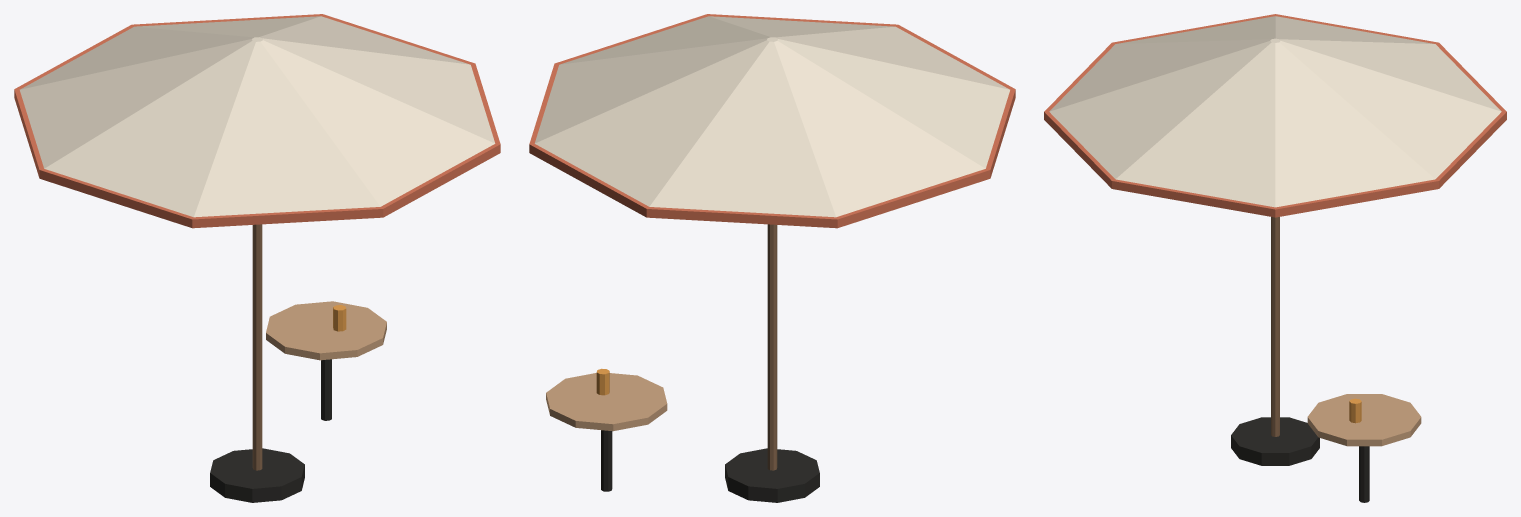
Rendered from parasol.glb.
3 views of the same model, side by side, from view 1: azimuth 30°, elevation 25°; view 2: azimuth 150°, elevation 25°; view 3: azimuth 270°, elevation 25° (orthographic). The views are drawn at different scales.
Parts seen in each view (by area): view 1: Canopy, CanopyTrim, SideTop, Base, Pole, SideLeg; view 2: Canopy, CanopyTrim, SideTop, Base, Pole, SideLeg; view 3: Canopy, CanopyTrim, SideTop, Base, Pole, SideLeg.
Part boxes in pixels (x1,y1,x2,y2): Canopy: (20, 16, 495, 217); CanopyTrim: (14, 14, 500, 228); SideTop: (266, 301, 386, 360); Base: (210, 448, 304, 502); Pole: (252, 224, 262, 470); SideLeg: (321, 359, 331, 420); Canopy: (534, 16, 1009, 217); CanopyTrim: (529, 14, 1015, 228); SideTop: (546, 373, 667, 431); Base: (725, 448, 819, 502); Pole: (767, 224, 777, 470); SideLeg: (601, 430, 612, 491); Canopy: (1049, 16, 1501, 207); CanopyTrim: (1044, 14, 1506, 217); SideTop: (1307, 394, 1421, 446); Base: (1231, 417, 1319, 465); Pole: (1271, 217, 1279, 436); SideLeg: (1359, 446, 1369, 502).
Bounding box in the file's own units: 2.6 × 2.52 × 2.6.
